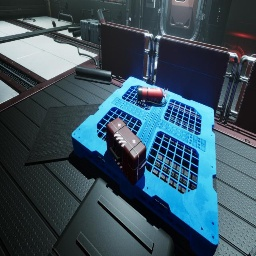0: (151, 61, 157, 73)
FireExtinguisher ]: (137, 86, 168, 106), (51, 20, 56, 27)
FirstAidBox ,: (106, 117, 146, 186)
NitrogenTank ,: (97, 9, 106, 24)
SafetySwitchPanel ,: (146, 0, 155, 8)
